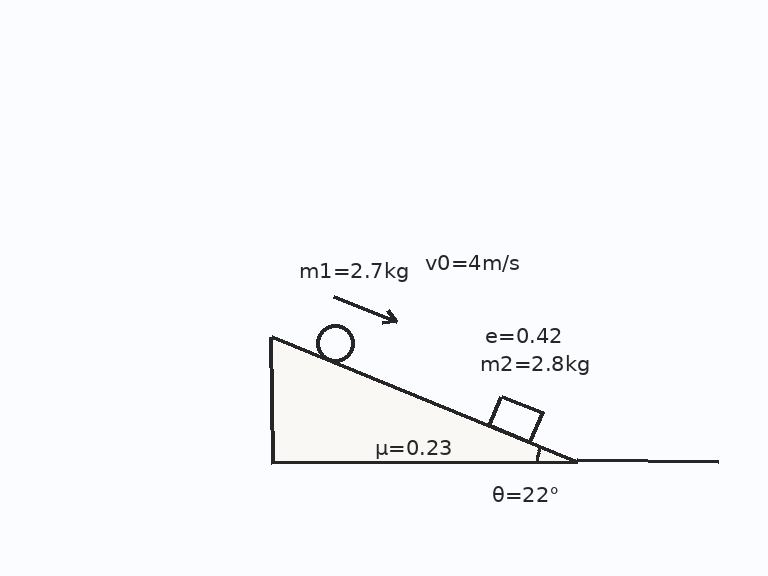ball: (314, 322, 356, 364)
block: (487, 393, 544, 444)
ramp: (269, 335, 579, 463)
